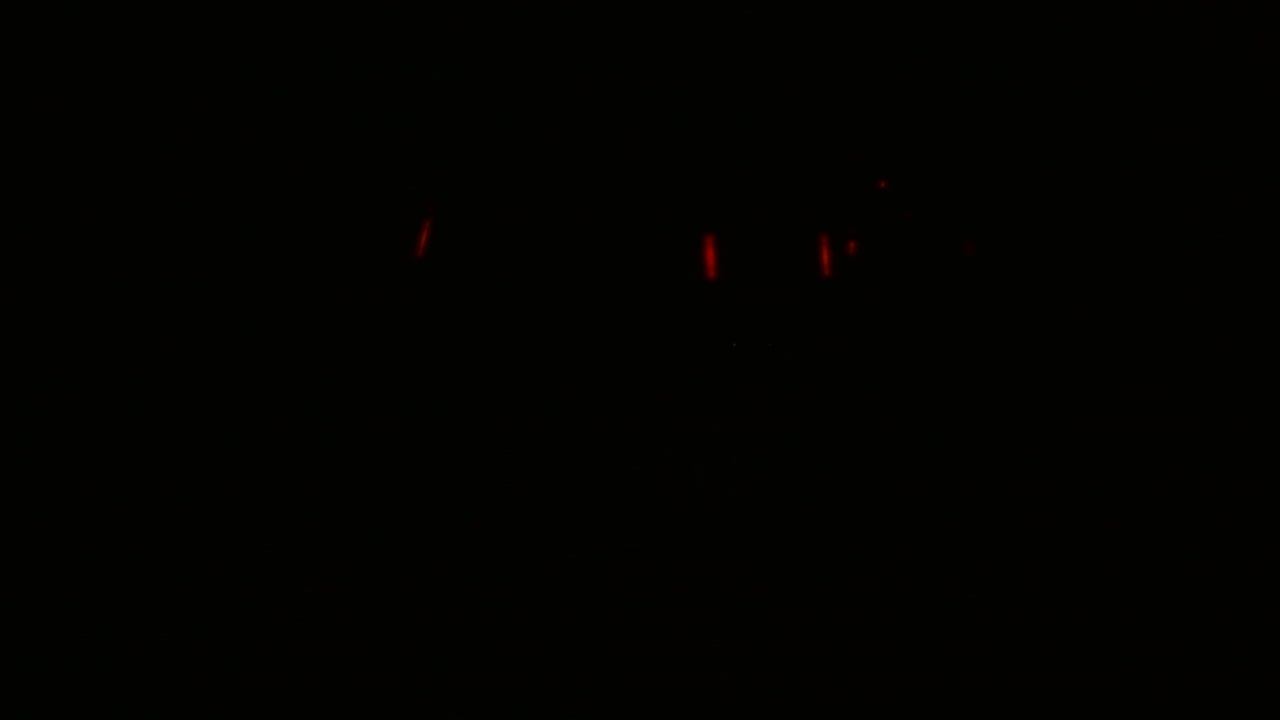pair1: (697, 229, 836, 286)
